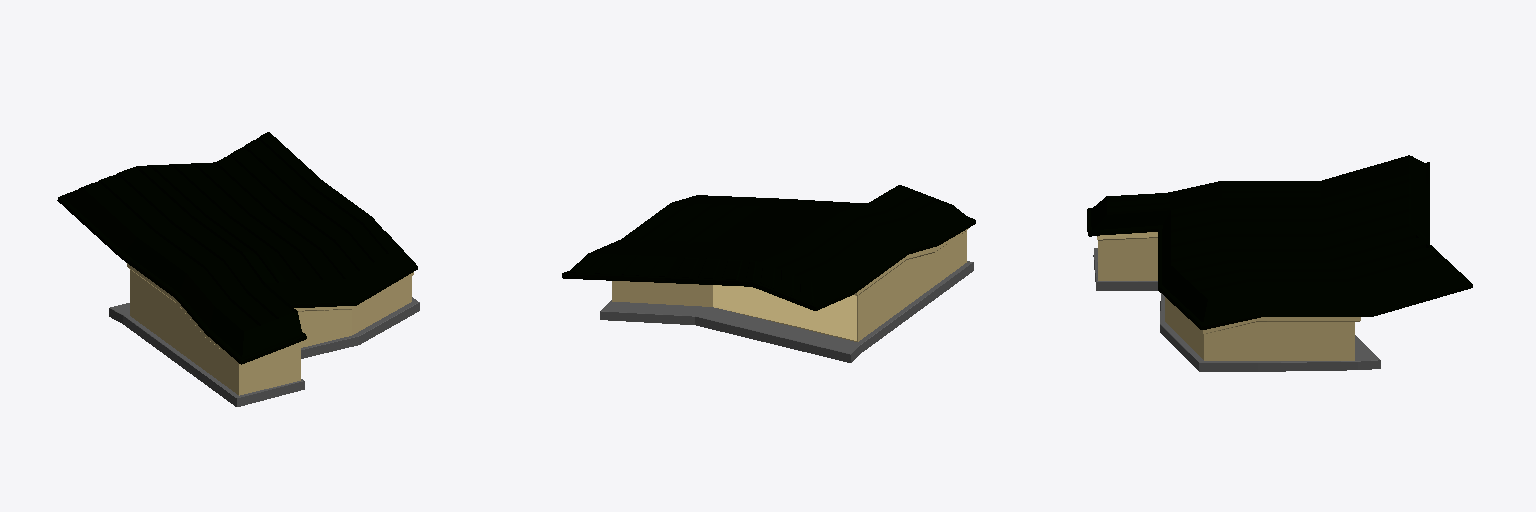
File: Station.obj
The picture shows the model from 3 angles: view 1: azimuth 30°, elevation 25°; view 2: azimuth 150°, elevation 25°; view 3: azimuth 270°, elevation 25°; orthographic projection.
Parts seen in each view (by area): view 1: Cube; view 2: Cube; view 3: Cube.
Part boxes in pixels (x1,y1,x2,y2): Cube: (57, 132, 419, 406); Cube: (562, 185, 975, 362); Cube: (1087, 155, 1472, 371).
Size of the model in its own units: 22.69 by 9.81 by 30.71.